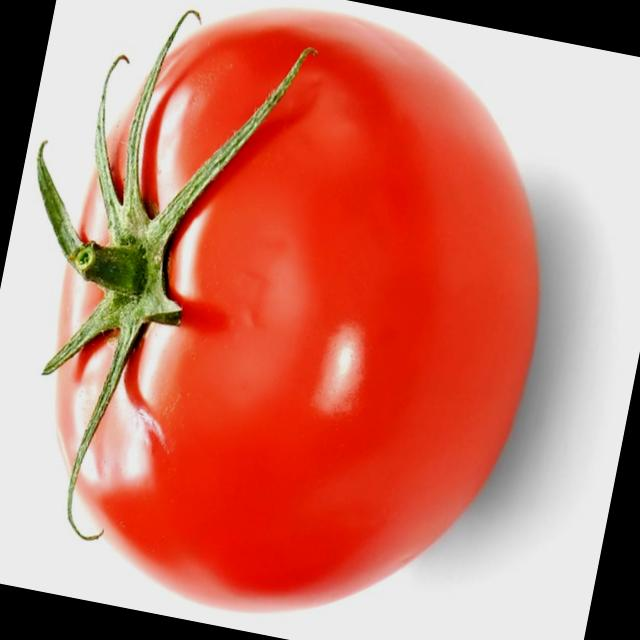tomato: (0, 0, 595, 640)
